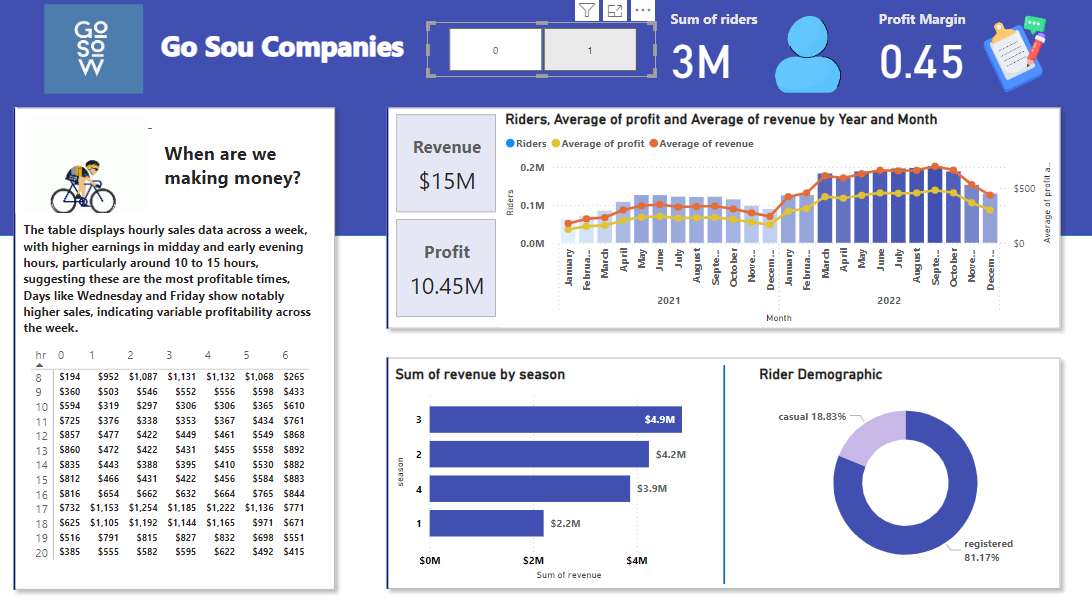

The dashboard page shown, as its layout file describes it:
{"tool":"powerbi","page":{"name":"Page 1","canvas":[1280,720],"ordinal":0},"visuals":[{"type":"shape","box":[0,0,1280,280],"z":0},{"type":"cardVisual","fields":{"Data":["Min(Query2.riders)"]},"box":[0,113.8,408.8,595],"z":1000},{"type":"cardVisual","fields":{"Data":["Min(Query2.riders)"]},"box":[433.8,113.8,818.8,291.2],"z":2000},{"type":"cardVisual","fields":{"Data":["Min(Query2.riders)"]},"box":[433.8,405,818.8,303.8],"z":3000},{"type":"cardVisual","fields":{"Data":["Min(Query2.riders)"]},"box":[13.8,126.2,191.2,133.8],"z":4000},{"type":"pivotTable","fields":{"Values":["Avg(Query2.revenue)"],"Columns":["Query2.weekday"],"Rows":["Query2.hr"]},"box":[32.5,405,335,260],"z":5000},{"type":"textbox","box":[187.5,163.8,196.2,95],"z":6000},{"type":"textbox","box":[23.8,258.8,351.2,146.2],"z":7000},{"type":"lineClusteredColumnComboChart","fields":{"Category":["Query2.dteday.Variation.Date Hierarchy.Year","Query2.dteday.Variation.Date Hierarchy.Month"],"Y":["Sum(Query2.riders)"],"Y2":["Avg(Query2.profit)","Avg(Query2.revenue)"]},"box":[583.8,133.8,646.2,252.5],"z":8000},{"type":"clusteredBarChart","fields":{"Category":["Query2.season"],"Y":["Sum(Query2.revenue)"]},"box":[456.2,430,387.5,255],"z":9000},{"type":"donutChart","title":"Rider Demographic","fields":{"Category":["Query2.rider_type"],"Y":["Sum(Query2.riders)"]},"box":[880,430,350,255],"z":10000},{"type":"shape","box":[806.2,430,75,255],"z":11000},{"type":"cardVisual","fields":{"Data":["Sum(Query2.revenue)","Sum(Query2.profit)"]},"box":[457.5,133.8,126.2,246.2],"z":12000},{"type":"cardVisual","fields":{"Data":["Sum(Query2.riders)","Query2.Profit Margin"]},"box":[765,0,487.5,126.2],"z":13000},{"type":"image","box":[47.5,6.2,125,113.8],"z":13002},{"type":"textbox","box":[172.5,31.2,315,63.8],"z":13003},{"type":"slicer","fields":{"Values":["Query2.yr"]},"box":[497.5,31.2,267.5,63.8],"z":13004}]}

Visuals, with their boxes in screenshot pixels (x1, y1, x2, y2), scaled from the page's 1280x720 canvas onto the 1092x606 screenshot:
shape: (0, 0, 1091, 236)
cardVisual - Min(Query2.riders): (0, 96, 349, 597)
cardVisual - Min(Query2.riders): (370, 96, 1069, 341)
cardVisual - Min(Query2.riders): (370, 341, 1069, 597)
cardVisual - Min(Query2.riders): (12, 106, 175, 219)
pivotTable - Avg(Query2.revenue) x Query2.weekday: (28, 341, 314, 560)
textbox: (160, 138, 327, 218)
textbox: (20, 218, 320, 341)
lineClusteredColumnComboChart - Query2.dteday.Variation.Date Hierarchy.Year x Query2.dteday.Variation.Date Hierarchy.Month: (498, 113, 1049, 325)
clusteredBarChart - Query2.season x Sum(Query2.revenue): (389, 362, 720, 577)
"Rider Demographic" donutChart: (751, 362, 1049, 577)
shape: (688, 362, 752, 577)
cardVisual - Sum(Query2.revenue) x Sum(Query2.profit): (390, 113, 498, 320)
cardVisual - Sum(Query2.riders) x Query2.Profit Margin: (653, 0, 1069, 106)
image: (41, 5, 147, 101)
textbox: (147, 26, 416, 80)
slicer - Query2.yr: (424, 26, 653, 80)
